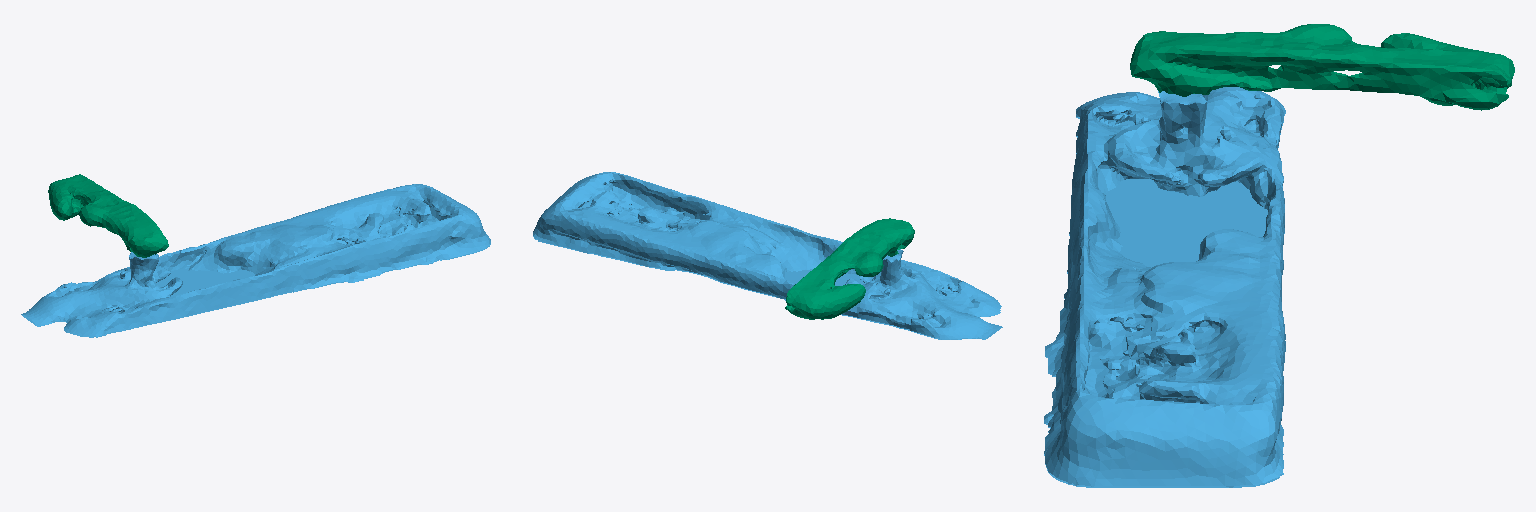
The robot description file, URDF, robot "object":
<?xml version='1.0' encoding='utf-8'?>
<robot name="object">
  <link name="base">
    <inertial>
      <origin xyz="0 0 0" rpy="0 0 0" />
      <mass value="0.0" />
      <inertia ixx="0" ixy="0" ixz="0" iyy="0" iyz="0" izz="0" />
    </inertial>
  </link>
  <link name="link_1">
    <visual>
      <origin xyz="0 0 0" rpy="0 0 0" />
      <geometry>
        <mesh filename="meshes/link_1.stl" />
      </geometry>
    </visual>
    <collision>
      <origin xyz="0 0 0" rpy="0 0 0" />
      <geometry>
        <mesh filename="meshes/link_1.stl" />
      </geometry>
    </collision>
    <inertial>
      <origin xyz="0.293462929 0.183248861 0.0683127227" rpy="0 0 0" />
      <mass value="127.508011" />
      <inertia ixx="3.50075487" ixy="0.0912369358" ixz="0.568852342" iyy="61.8811276" iyz="-0.0976509091" izz="66.0044457" />
    </inertial>
  </link>
  <link name="link_2">
    <visual>
      <origin xyz="0.688717601 -0.193855408 -0.279869482" rpy="0 0 0" />
      <geometry>
        <mesh filename="meshes/link_2.stl" />
      </geometry>
    </visual>
    <collision>
      <origin xyz="0.688717601 -0.193855408 -0.279869482" rpy="0 0 0" />
      <geometry>
        <mesh filename="meshes/link_2.stl" />
      </geometry>
    </collision>
    <inertial>
      <origin xyz="-0.0105558523 0.388025103 0.161235861" rpy="0 0 0" />
      <mass value="18.151075" />
      <inertia ixx="1.81117878" ixy="0.0495751614" ixz="-0.0208276433" iyy="0.148163195" iyz="0.143420828" izz="1.82349905" />
    </inertial>
  </link>
  <joint name="joint_1_2" type="revolute">
    <parent link="link_1" />
    <child link="link_2" />
    <origin xyz="-0.688717601 0.193855408 0.279869482" rpy="0 0 0" />
    <axis xyz="-0.00328518334 -0.0618461827 -0.998080286" />
    <limit lower="-1.57" upper="1.57" effort="10.0" velocity="1.0" />
  </joint>
  <joint name="base_to_1" type="fixed">
    <parent link="base" />
    <child link="link_1" />
    <origin xyz="0 0 0" rpy="0 0 0" />
  </joint>
</robot>

--- Render facts (derived) ---
Views: 3 orthographic renders of the robot side by side, from view 1: azimuth 30°, elevation 25°; view 2: azimuth 150°, elevation 25°; view 3: azimuth 270°, elevation 25°.
Robot: object — 3 links, 2 joints (1 revolute, 1 fixed); root link base; default pose: every joint at zero.
Visible links, largest first — view 1: link_1, link_2; view 2: link_1, link_2; view 3: link_1, link_2.
Link boxes in pixels (<box>): link_1: <box>21,184,490,337</box>; link_2: <box>48,174,168,257</box>; link_1: <box>533,172,1002,339</box>; link_2: <box>785,218,914,319</box>; link_1: <box>1044,87,1285,487</box>; link_2: <box>1130,24,1514,110</box>.
Bounding box of the posed robot: 2.67 × 1.29 × 0.438 m (x, y, z).
Meshes: 2 distinct files referenced, 2 mesh visuals loaded (2 binary STL).
